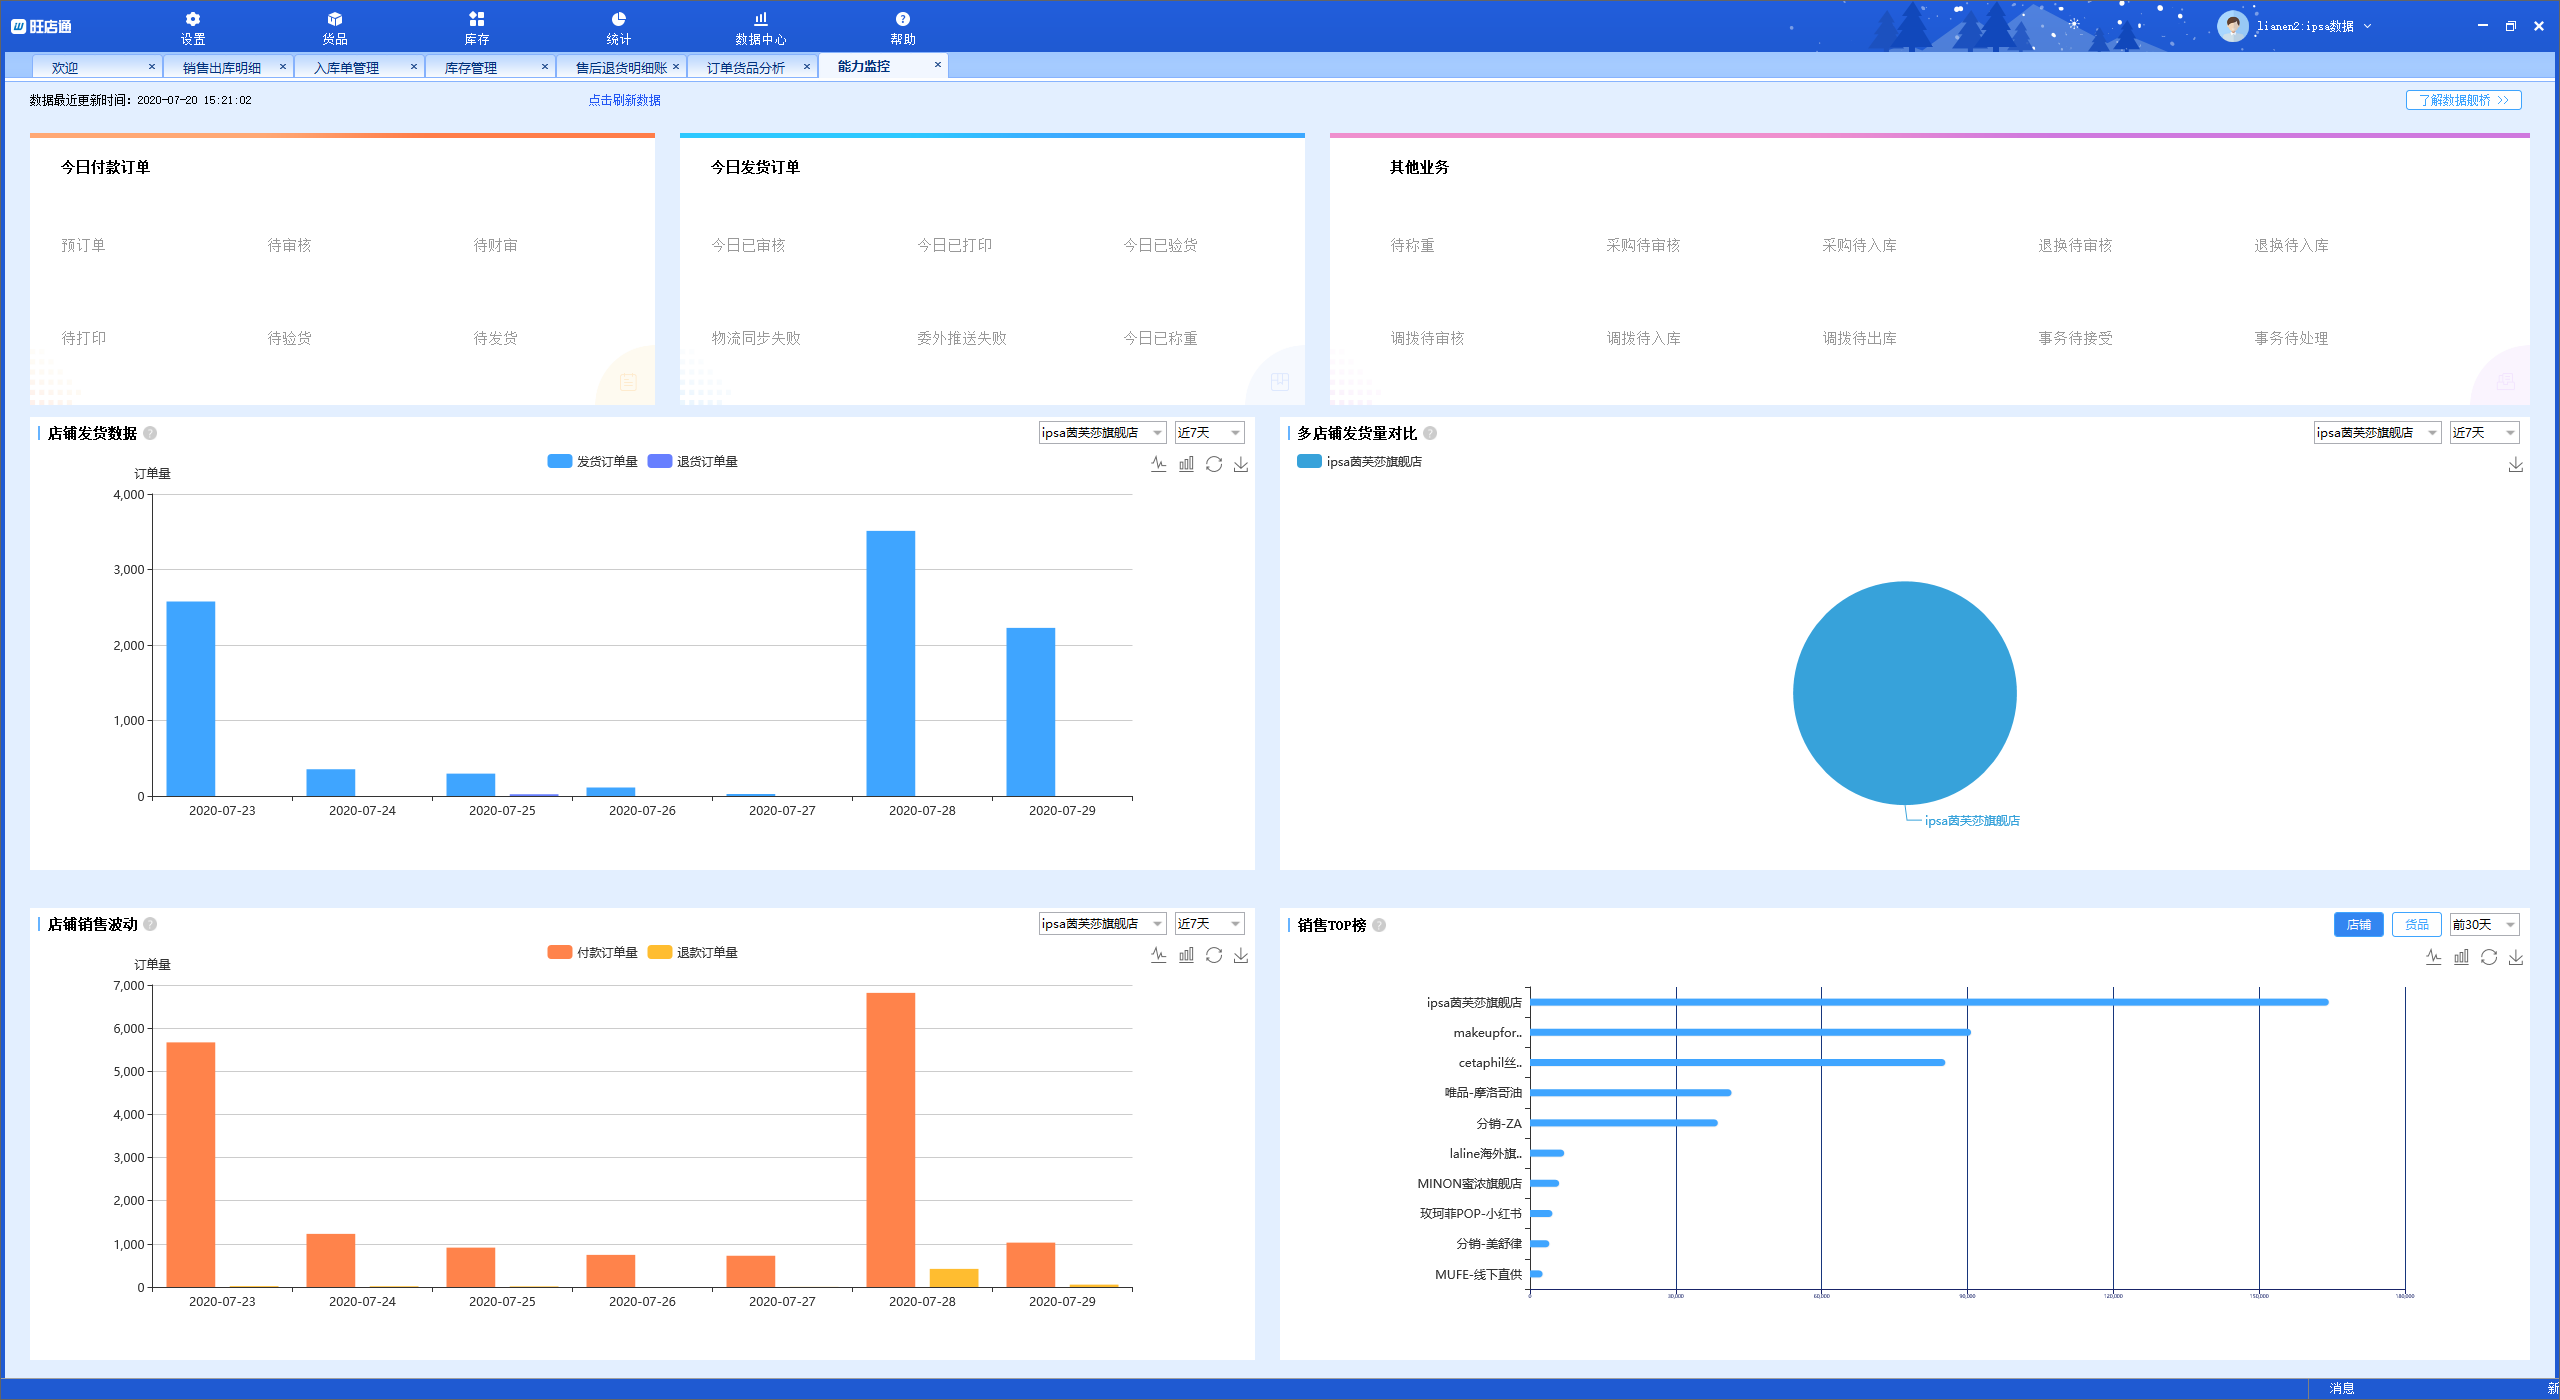character: (33, 91, 259, 109), (1327, 452, 1434, 472), (709, 324, 800, 348), (2320, 421, 2413, 443), (710, 233, 790, 257), (579, 91, 674, 110), (2253, 17, 2357, 34), (1040, 916, 1138, 933), (1298, 426, 1419, 440), (179, 59, 265, 78), (1602, 329, 1688, 348), (459, 324, 526, 348), (910, 329, 1014, 345), (43, 424, 136, 441), (1822, 328, 1898, 348), (59, 321, 114, 348), (2036, 328, 2115, 347), (746, 1290, 819, 1310), (2251, 329, 2338, 347), (1417, 1176, 1524, 1190), (459, 1291, 543, 1309), (598, 1291, 683, 1309), (183, 803, 267, 821), (1115, 236, 1208, 252), (1924, 814, 2027, 828), (1453, 1052, 1522, 1072), (1422, 1207, 1526, 1221), (1607, 234, 1688, 252), (1422, 997, 1522, 1010), (1040, 426, 1140, 440), (312, 57, 384, 76), (1024, 1291, 1103, 1309), (912, 236, 998, 252), (883, 802, 967, 817), (1815, 240, 1908, 253), (324, 1291, 407, 1307), (2258, 240, 2332, 257), (677, 452, 745, 471), (1446, 1086, 1527, 1102), (1393, 329, 1472, 345), (31, 12, 72, 41), (574, 60, 662, 74), (579, 943, 638, 964), (59, 160, 159, 172), (710, 59, 788, 74), (465, 802, 543, 817), (1296, 917, 1365, 934), (259, 329, 321, 348), (1389, 157, 1452, 176), (2039, 236, 2115, 252), (1431, 1266, 1526, 1278), (679, 941, 738, 960), (1458, 1234, 1522, 1252), (59, 236, 116, 255), (738, 803, 815, 817), (1126, 329, 1200, 343), (1438, 1148, 1522, 1160), (1450, 1026, 1522, 1040), (41, 921, 136, 931), (1026, 803, 1107, 816), (888, 1297, 969, 1309), (710, 162, 803, 172), (474, 236, 524, 255), (324, 803, 402, 816), (838, 59, 891, 76), (184, 1297, 259, 1309), (1472, 1116, 1524, 1133), (441, 60, 498, 76), (1389, 236, 1445, 252), (578, 453, 640, 467), (126, 959, 181, 974), (109, 631, 147, 653), (262, 236, 314, 252), (103, 1148, 148, 1166), (2415, 95, 2488, 105), (607, 805, 679, 816), (129, 467, 176, 483), (107, 1066, 148, 1083), (2324, 1379, 2363, 1397), (1176, 916, 1214, 933), (734, 34, 786, 47), (176, 29, 210, 47), (2405, 914, 2436, 933), (109, 1105, 147, 1121), (116, 1236, 148, 1253), (112, 1021, 147, 1036), (48, 60, 81, 76), (114, 714, 147, 729), (2346, 916, 2376, 933), (462, 31, 493, 47), (317, 31, 352, 45), (110, 566, 147, 578), (112, 983, 148, 995), (2451, 428, 2486, 440), (110, 490, 147, 500), (109, 1195, 145, 1205), (129, 786, 148, 805), (2455, 917, 2484, 929), (607, 36, 634, 48), (888, 34, 919, 45), (1810, 1295, 1838, 1302), (2101, 1295, 2127, 1302), (134, 1283, 147, 1297), (1665, 1295, 1689, 1302), (2253, 1293, 2276, 1300), (2396, 1297, 2420, 1302), (1957, 1295, 1981, 1298)
icon: (2215, 9, 2251, 43), (1148, 452, 1169, 472), (1148, 943, 1169, 964), (465, 9, 486, 28), (750, 9, 771, 28), (1203, 453, 1224, 472), (183, 9, 202, 28), (610, 9, 629, 28), (893, 9, 912, 28), (1271, 372, 1289, 391), (140, 422, 159, 441), (1420, 422, 1439, 441), (140, 914, 159, 933), (1203, 945, 1222, 964), (2451, 947, 2470, 966), (2479, 947, 2498, 966), (2424, 947, 2443, 966), (1369, 916, 1389, 933), (9, 17, 28, 34), (140, 55, 159, 72), (927, 59, 946, 76), (1177, 453, 1195, 472), (2507, 453, 2524, 472), (1177, 945, 1195, 964), (2507, 947, 2524, 966), (326, 10, 343, 28), (1233, 455, 1250, 472), (1233, 947, 1250, 964), (2503, 424, 2519, 441), (2476, 19, 2493, 34), (2494, 91, 2510, 107), (2503, 17, 2519, 33), (2531, 17, 2546, 33), (2503, 916, 2517, 933), (1227, 424, 1241, 440), (2426, 424, 2439, 440), (1152, 424, 1164, 440), (1229, 916, 1241, 931), (669, 60, 683, 72), (802, 59, 814, 72), (2360, 21, 2374, 33), (1152, 916, 1164, 929), (278, 60, 290, 72), (540, 60, 552, 72), (409, 59, 419, 72)
